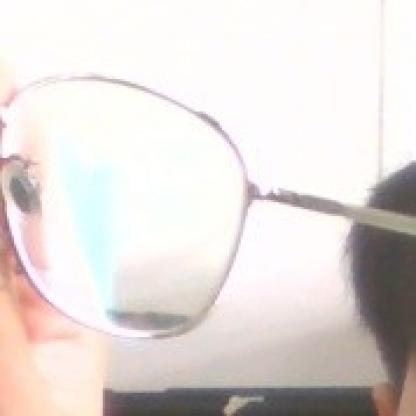not trash: (0, 69, 252, 334)
